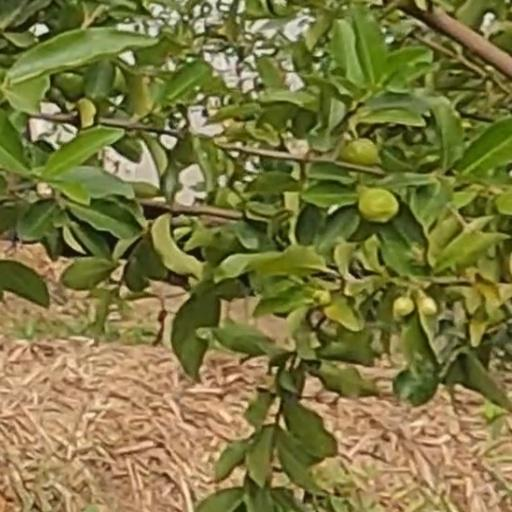acerola: (359, 191, 398, 224), (341, 139, 378, 164)
